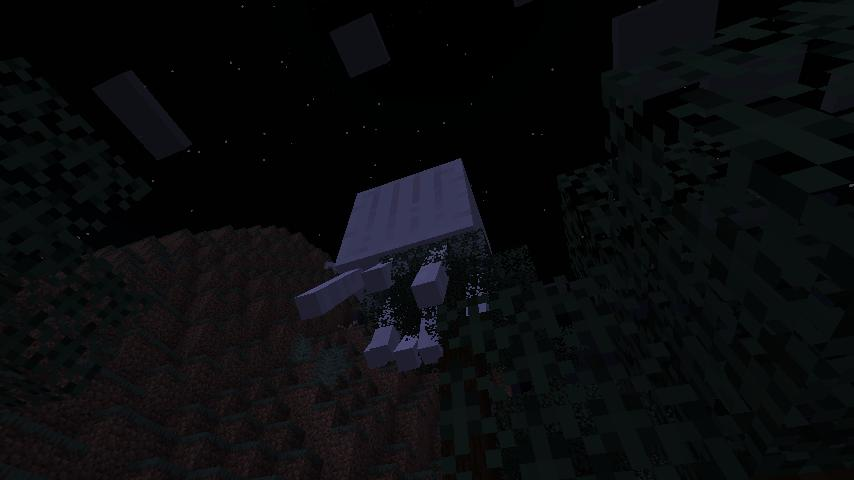ghast: (296, 154, 496, 370)
